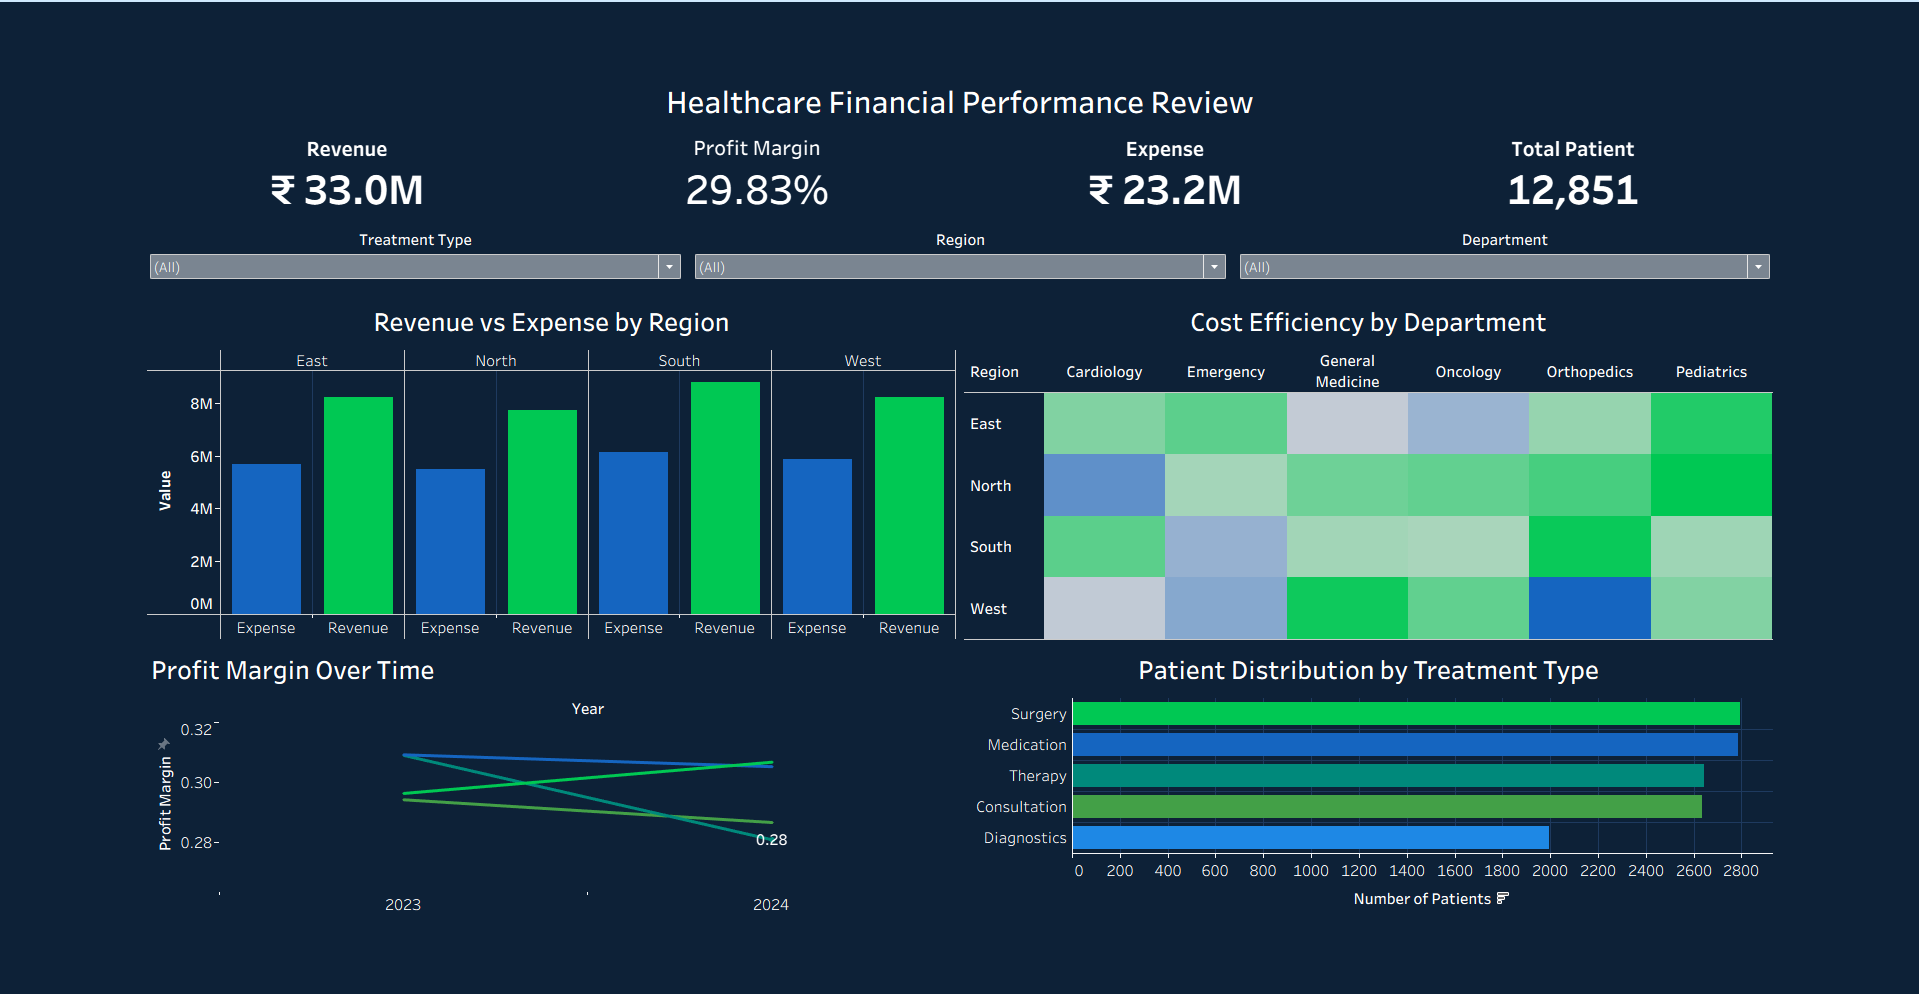

Layout of this report page (visuals, bound fields, positions):
{"tool":"tableau","page":{"name":"Healthcare Financial Performance Review","canvas":[1000,1000],"units":"permille","ordinal":0},"visuals":[{"type":"title","box":[4.9,10.2,990.2,62.4]},{"type":"worksheet","title":"KPI Revenue","mark":"Automatic","box":[4.9,72.6,248,115.9]},{"type":"worksheet","title":"KPI Profit Margin","mark":"Automatic","box":[252.9,72.6,247.4,115.9]},{"type":"worksheet","title":"KPI Expense","mark":"Automatic","box":[500.3,72.6,247.4,115.9]},{"type":"worksheet","title":"KPI Total patient","mark":"Automatic","box":[747.7,72.6,247.4,115.9]},{"type":"filter","title":"Regional Revenue Analysis","param":"[federated.1b5wf5o1msrdz51b8w0xe0cg1fyj].[none:Treatment_Type:nk]","box":[4.9,188.5,330.3,81.5]},{"type":"filter","title":"Regional Revenue Analysis","param":"[federated.1b5wf5o1msrdz51b8w0xe0cg1fyj].[none:Region:nk]","box":[335.2,188.5,330.3,81.5]},{"type":"filter","title":"Regional Revenue Analysis","param":"[federated.1b5wf5o1msrdz51b8w0xe0cg1fyj].[none:Department:nk]","box":[665.5,188.5,329.7,81.5]},{"type":"worksheet","title":"Regional Revenue Analysis","mark":"Automatic","cols":["Region"],"box":[4.9,270.1,495.4,401.3]},{"type":"worksheet","title":"Department Cost Efficiency","mark":"Automatic","rows":["Region"],"cols":["Department"],"box":[500.3,270.1,494.8,401.3]},{"type":"worksheet","title":"Profit Trend Analysis","mark":"Line","rows":["Calculation_1167276759780843521"],"cols":["Year"],"box":[4.9,671.3,495.4,318.5]},{"type":"worksheet","title":"Patient Mix by Treatment","mark":"Automatic","rows":["Treatment_Type"],"cols":["Number_of_Patients"],"box":[500.3,671.3,494.8,318.5]}]}

Visuals, with their boxes on the dashboard's canvas, which has no fixed pixel size, in thousandths of its width and height (x1, y1, x2, y2). These are canvas units, not pixel positions in the 1919x994 screenshot, which may show the page scaled, cropped or inside an application window:
title: 5 10 995 73
"KPI Revenue" worksheet: 5 73 253 188
"KPI Profit Margin" worksheet: 253 73 500 188
"KPI Expense" worksheet: 500 73 748 188
"KPI Total patient" worksheet: 748 73 995 188
"Regional Revenue Analysis" filter: 5 188 335 270
"Regional Revenue Analysis" filter: 335 188 666 270
"Regional Revenue Analysis" filter: 666 188 995 270
"Regional Revenue Analysis" worksheet: 5 270 500 671
"Department Cost Efficiency" worksheet: 500 270 995 671
"Profit Trend Analysis" worksheet (Line marks): 5 671 500 990
"Patient Mix by Treatment" worksheet: 500 671 995 990
